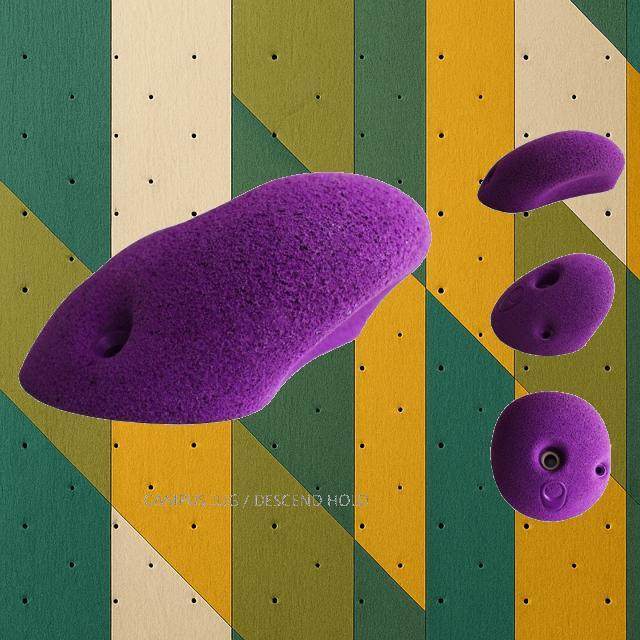Jug: (18, 170, 432, 424), (490, 391, 612, 522), (476, 128, 626, 214), (490, 252, 614, 356)
